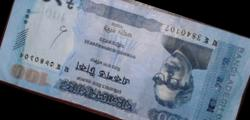100 taka: (17, 1, 234, 119)
